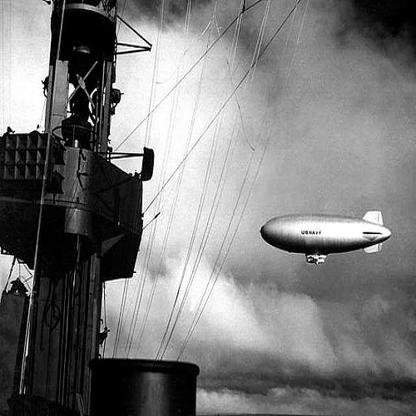Airship: (257, 211, 397, 267)
